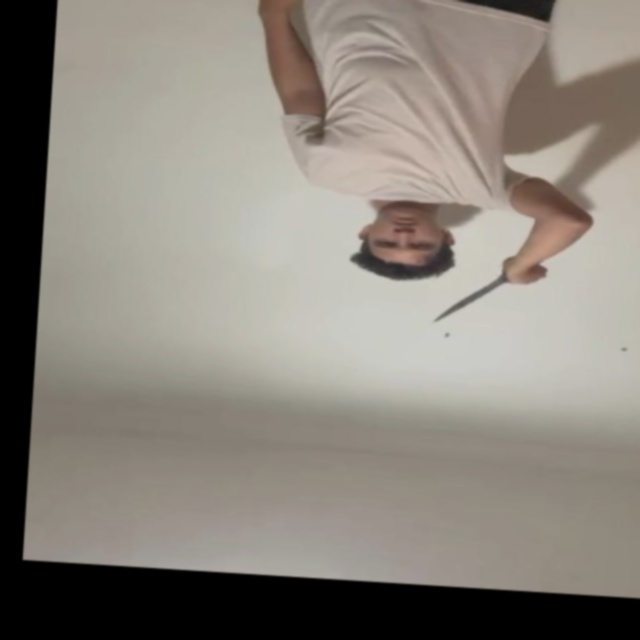Sharp-Object: (429, 278, 503, 327)
